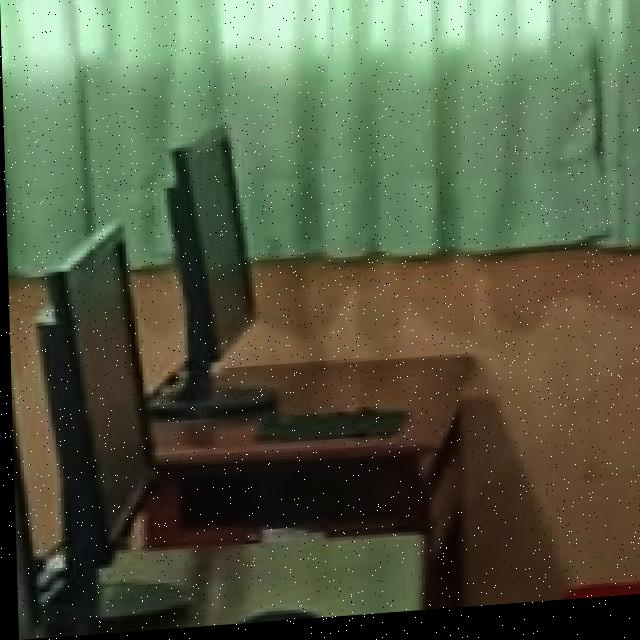offscreen: (38, 225, 146, 573), (167, 130, 250, 382)
